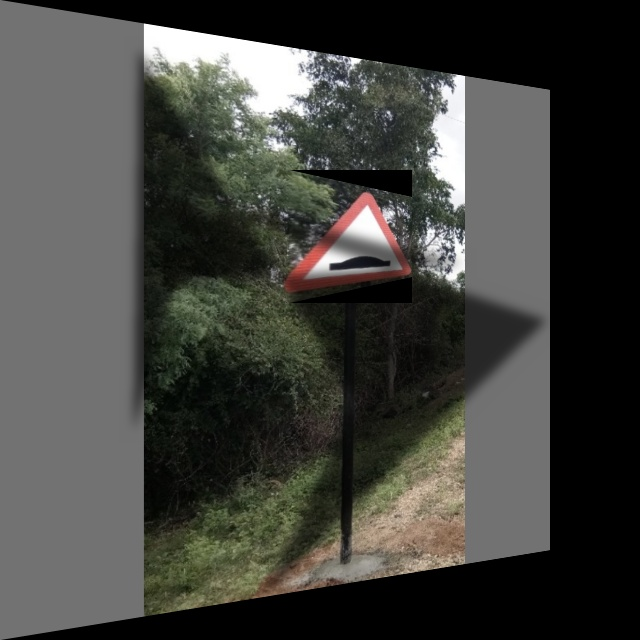Dangerous_Dip: (289, 170, 412, 303)
